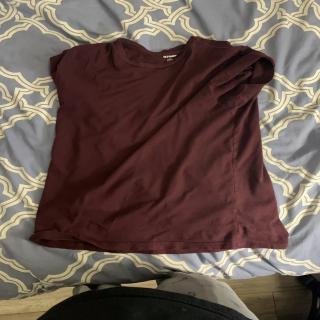Maroon T-Shirt: (34, 35, 291, 252)
